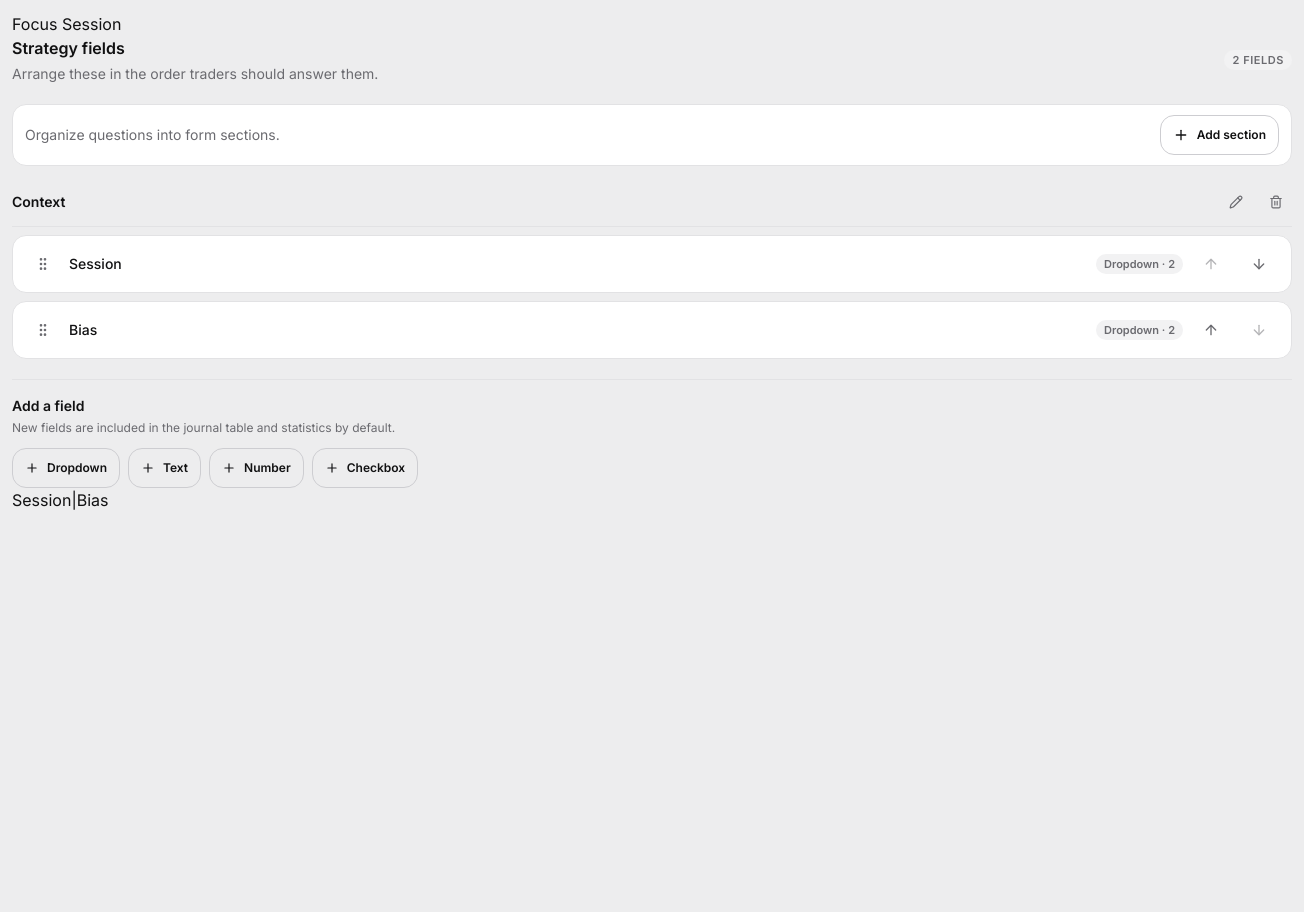
Test: TemplateFieldEditorList › duplicates a field with its options and exposes the new editable row
Click the button "Session" at coordinates (95, 264), box x1=69 y1=242 x2=1088 y2=286
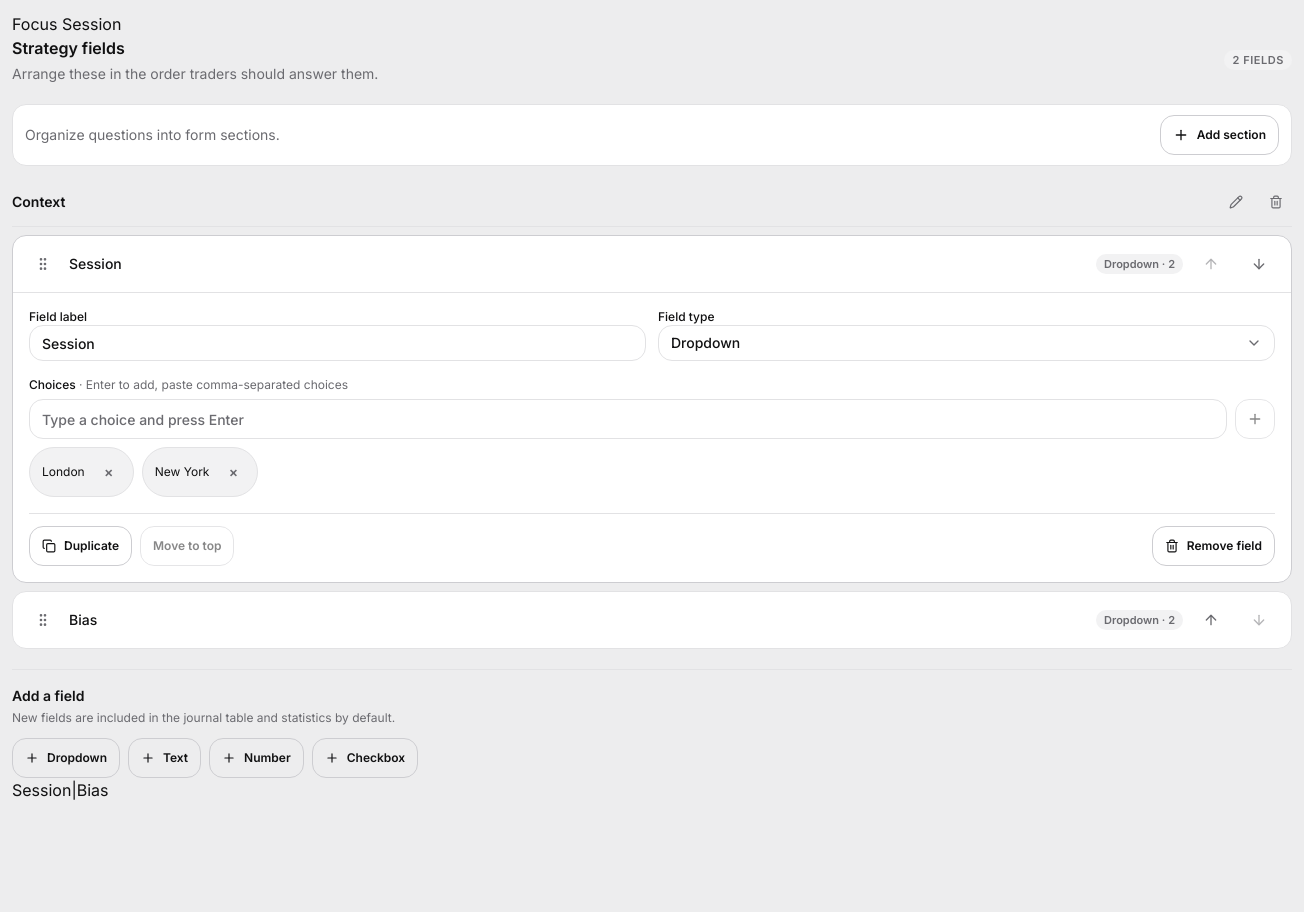
Click the button "Duplicate" at coordinates (80, 546), box x1=29 y1=526 x2=132 y2=566
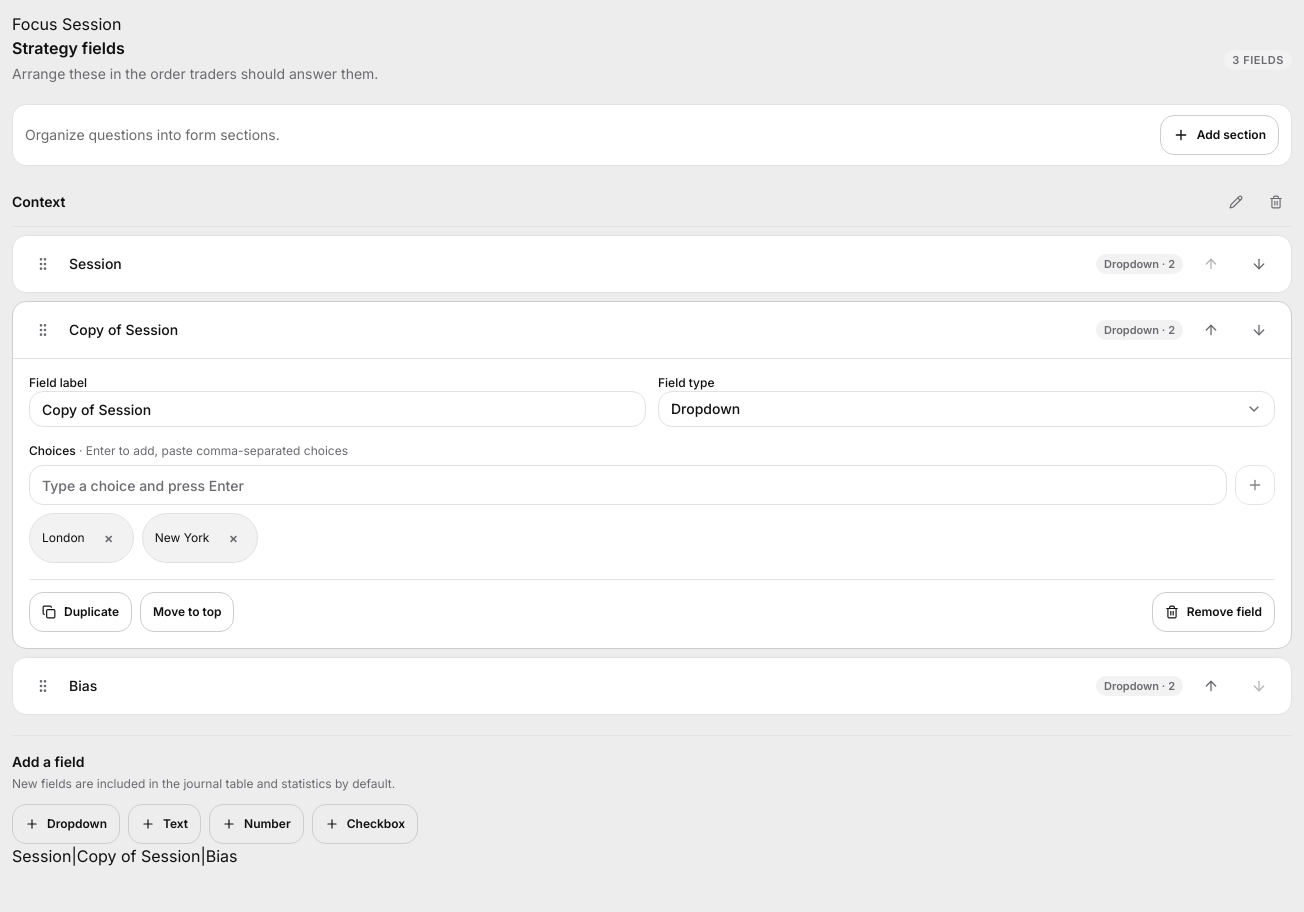
Expected: the list named "2 choices" is shown, x1=29 y1=513 x2=258 y2=563
Expected: the field named "Label for Copy of Session" holds "Copy of Session", x1=29 y1=391 x2=646 y2=427
